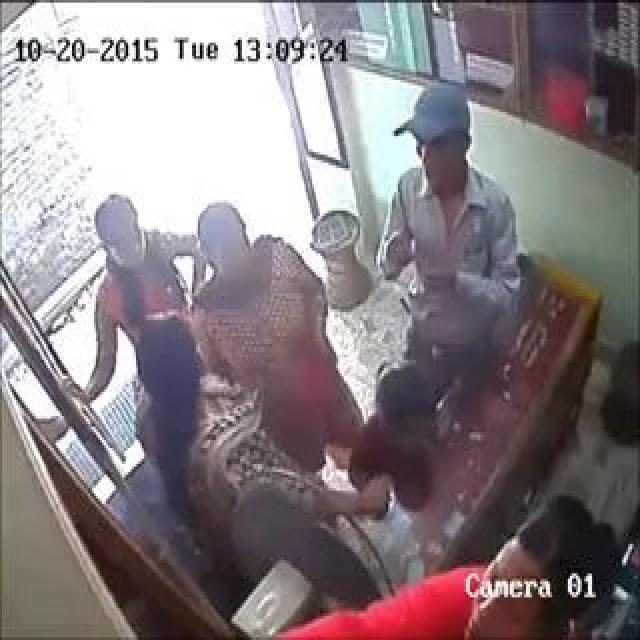Shoplifting: (388, 100, 468, 220)
